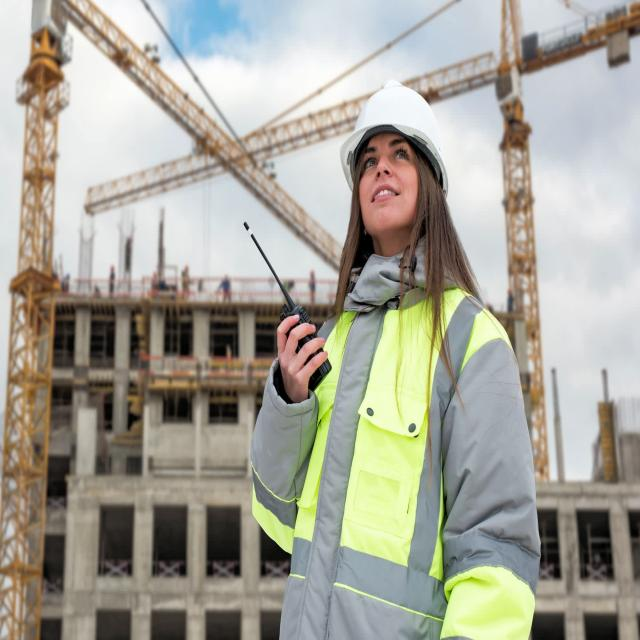helmet: (338, 78, 448, 200)
vest: (300, 283, 508, 578)
